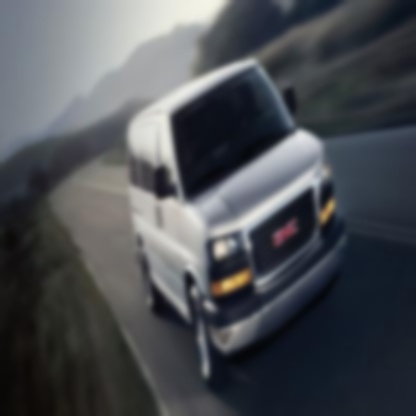Vehicle: (126, 56, 349, 394)
